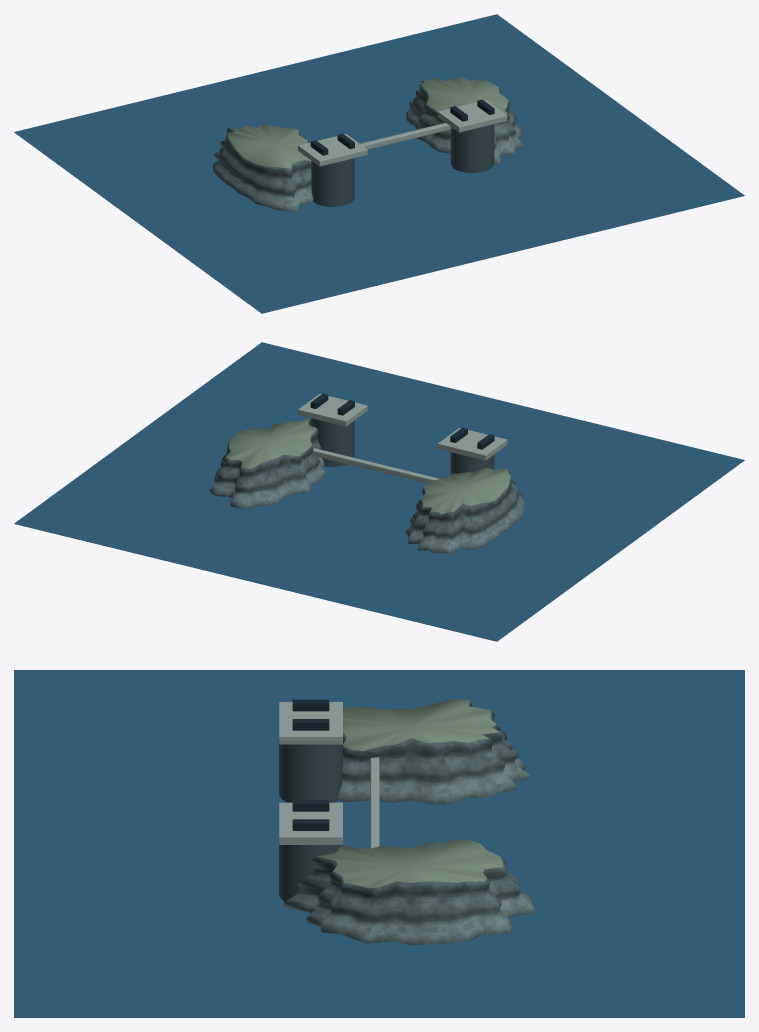
File: sea-fortress-v1.glb
The picture shows the model from 3 angles, top to bottom: view 1: azimuth 30°, elevation 25°; view 2: azimuth 150°, elevation 25°; view 3: azimuth 270°, elevation 25°; orthographic projection. The views are drawn at different scales.
Visible parts, largest first — view 1: Deep ocean, sea-fortress mantle, sea-fortress alloy, sea-fortress trim, sea-fortress strata 0, sea-fortress strata 1, sea-fortress strata 2, sea-fortress recess; view 2: Deep ocean, sea-fortress mantle, sea-fortress strata 0, sea-fortress strata 1, sea-fortress trim, sea-fortress strata 2, sea-fortress alloy, sea-fortress recess; view 3: Deep ocean, sea-fortress mantle, sea-fortress strata 0, sea-fortress strata 1, sea-fortress strata 2, sea-fortress alloy, sea-fortress trim, sea-fortress recess.
Part boxes in pixels (<box>): Deep ocean: <box>14,14,744,313</box>; sea-fortress mantle: <box>227,76,508,168</box>; sea-fortress alloy: <box>311,124,494,206</box>; sea-fortress trim: <box>298,100,507,166</box>; sea-fortress strata 0: <box>212,101,522,212</box>; sea-fortress strata 1: <box>219,90,516,195</box>; sea-fortress strata 2: <box>226,80,510,179</box>; sea-fortress recess: <box>310,99,494,155</box>; Deep ocean: <box>14,342,744,641</box>; sea-fortress mantle: <box>226,418,510,514</box>; sea-fortress strata 0: <box>209,457,525,554</box>; sea-fortress strata 1: <box>217,439,518,538</box>; sea-fortress trim: <box>298,394,507,483</box>; sea-fortress strata 2: <box>223,418,512,522</box>; sea-fortress alloy: <box>311,418,494,474</box>; sea-fortress recess: <box>310,393,494,449</box>; Deep ocean: <box>14,670,744,1017</box>; sea-fortress mantle: <box>316,698,503,888</box>; sea-fortress strata 0: <box>283,749,534,945</box>; sea-fortress strata 1: <box>298,729,520,922</box>; sea-fortress strata 2: <box>312,701,507,902</box>; sea-fortress alloy: <box>279,744,342,901</box>; sea-fortress trim: <box>279,702,379,848</box>; sea-fortress recess: <box>292,699,329,830</box>.
Bounding box in the file's own units: 180 × 20.2 × 160.
8 materials, 3 textured.
